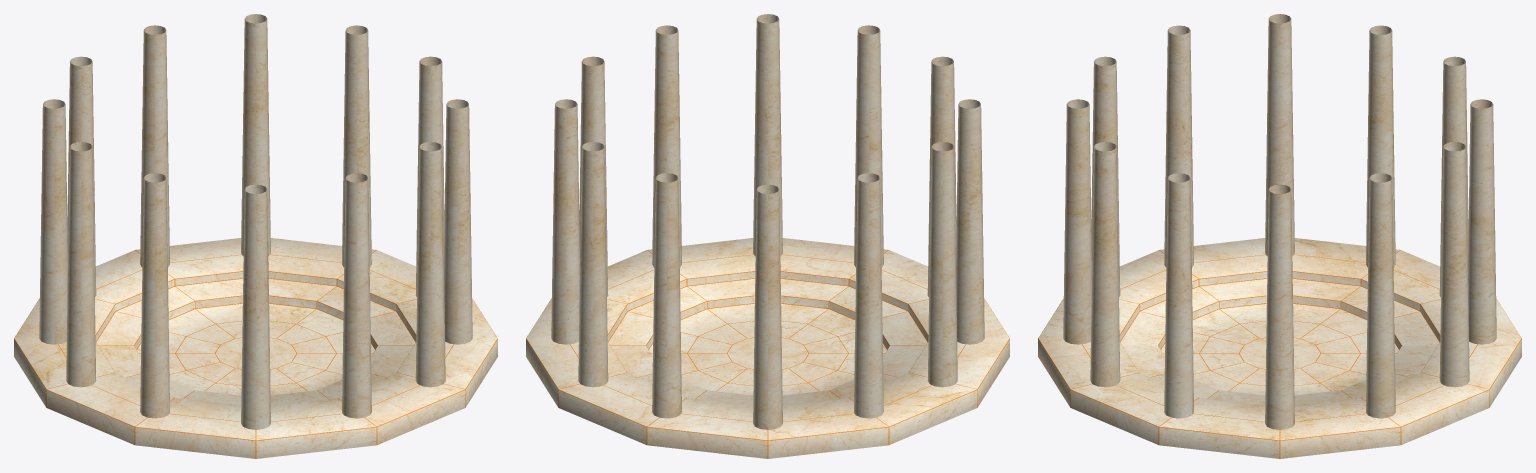
The model's file is place.fbx.
The picture shows the model from 3 angles, left to right: view 1: azimuth 30°, elevation 25°; view 2: azimuth 150°, elevation 25°; view 3: azimuth 270°, elevation 25°; orthographic projection.
Visible parts, largest first — view 1: place; view 2: place; view 3: place.
Part boxes in pixels (x1,y1,x2,y2): place: [14, 14, 497, 458]; place: [526, 14, 1009, 458]; place: [1038, 14, 1521, 458].
Size of what is drawn, in the model's own units: 11.99 by 6.91 by 11.99.
Materials: 2 (1 with a texture image).
